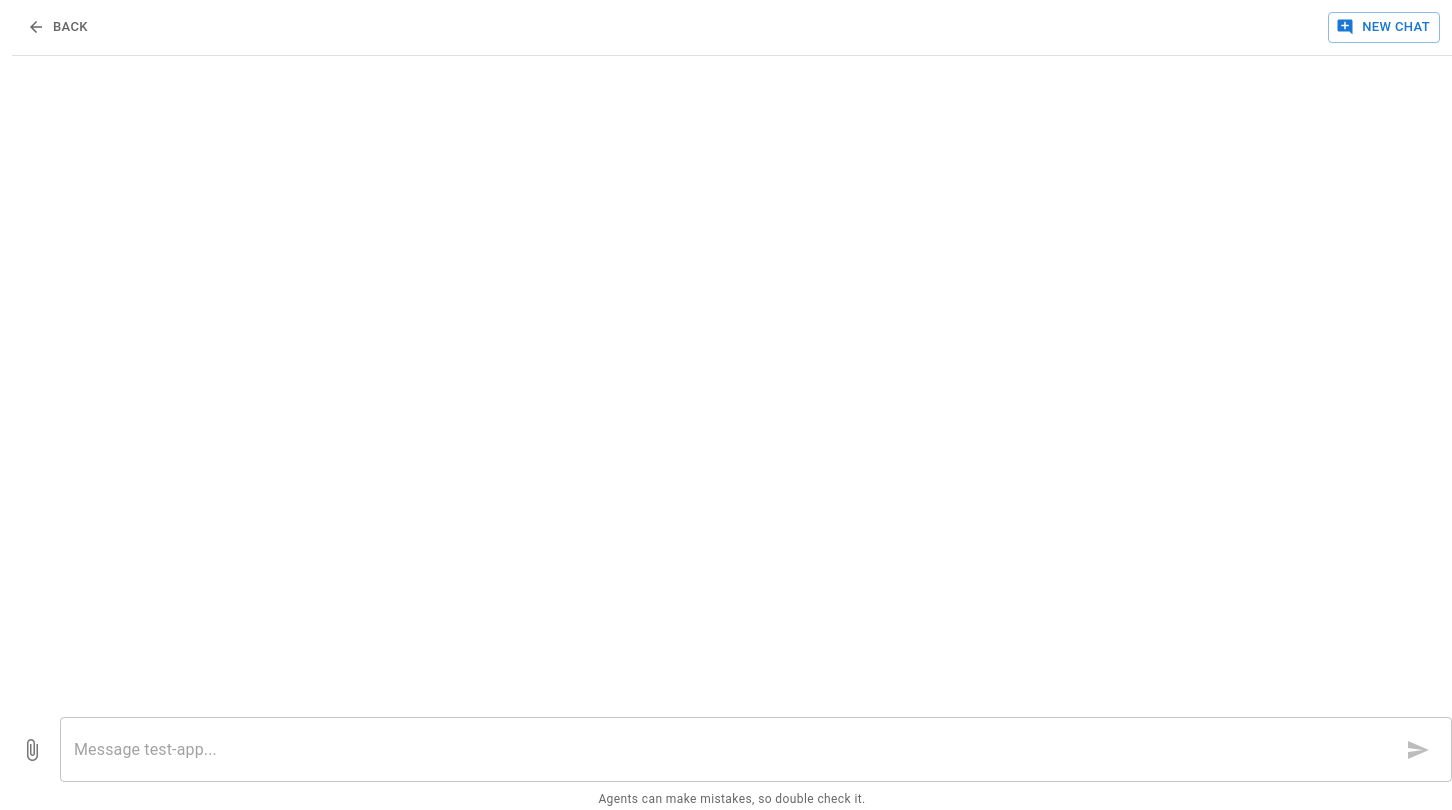
ActiveConversation › should display persistent error message on send failure
Step 1. Type "Message triggering error" into the text box with placeholder "Message test-app..." → (732, 750), box [74,738,1390,761]
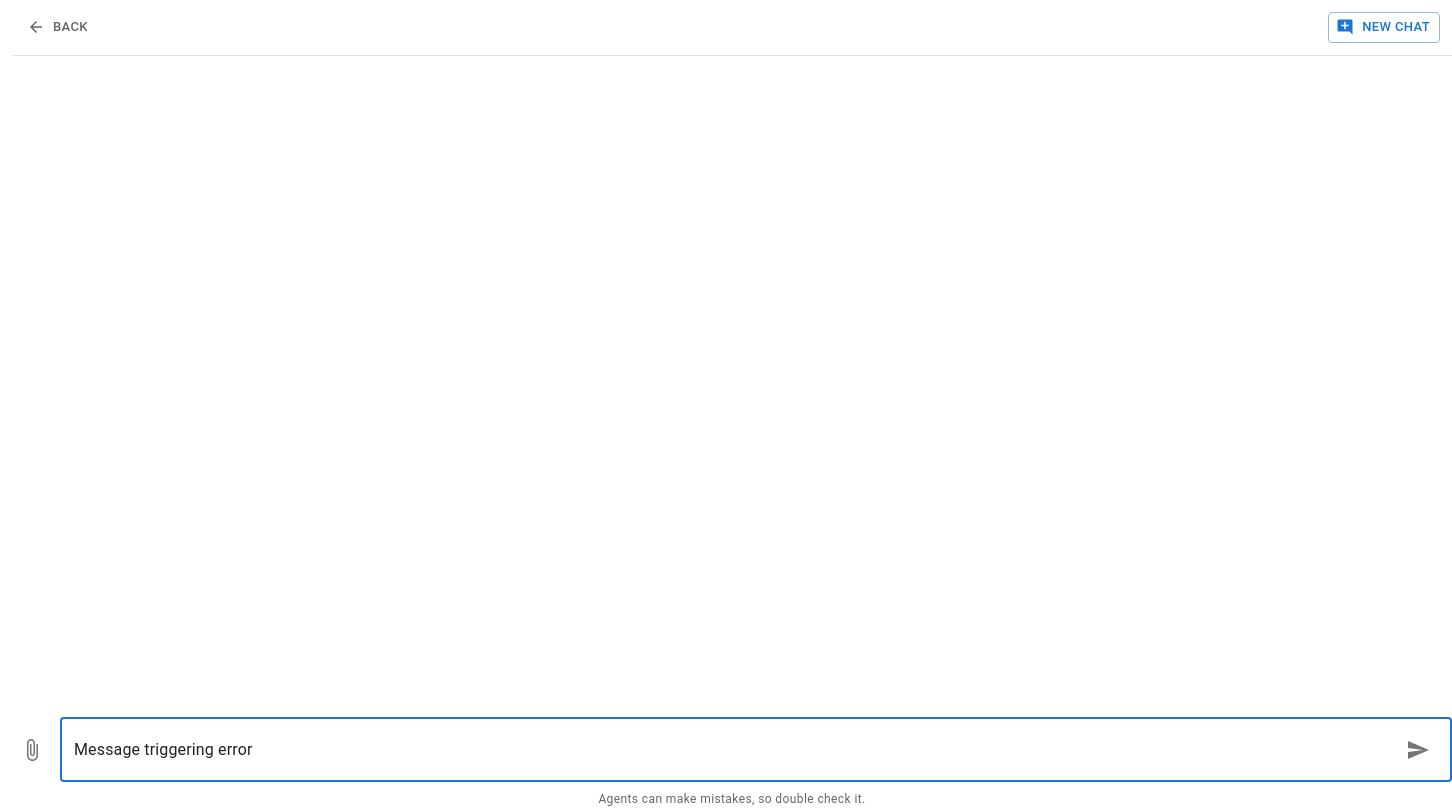
Step 2. Click the button named "send" → (1418, 750), box [1398,730,1438,770]
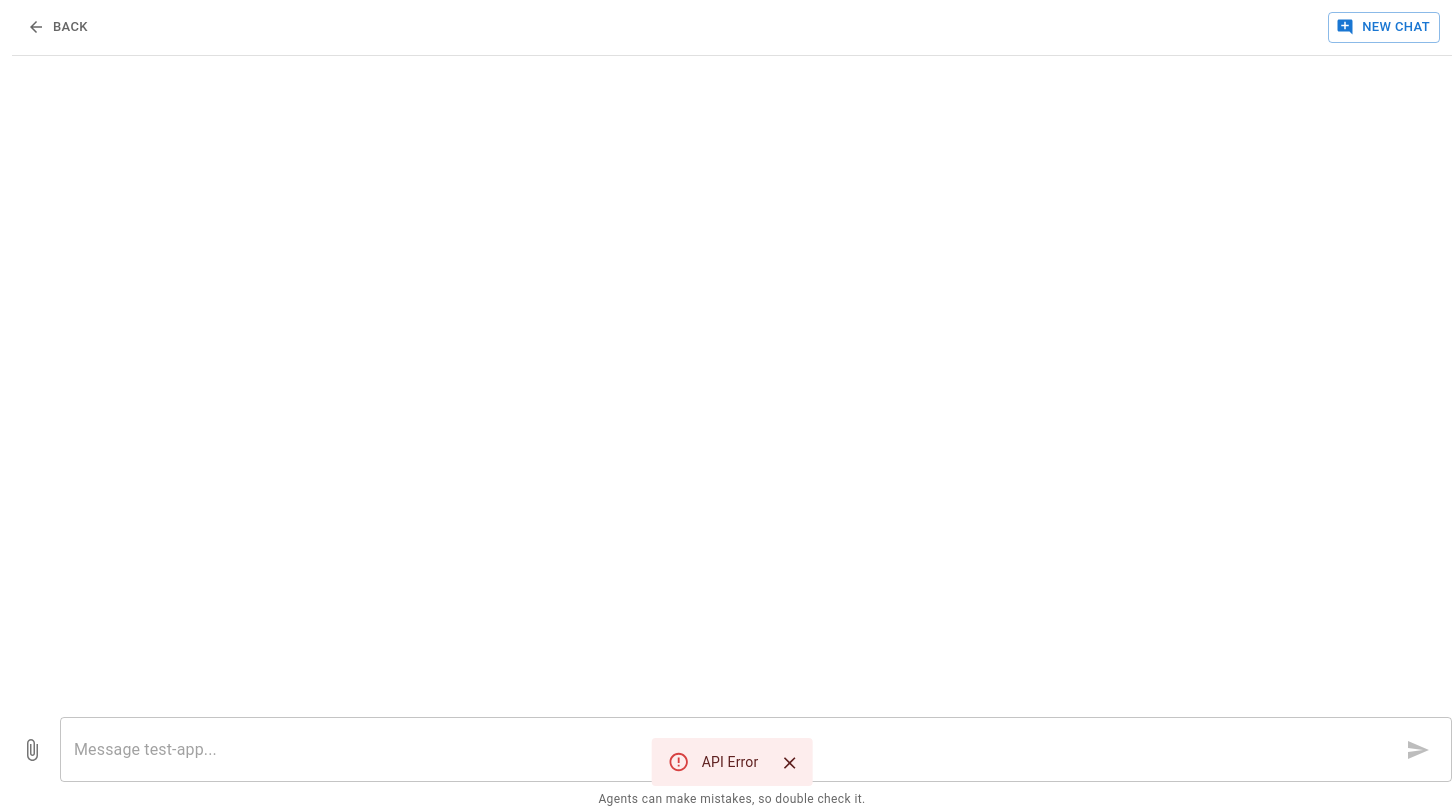
Result: the message "API Error" is shown at [652,738,812,786]
Result: the message reads "API Error" at [702,754,758,770]
